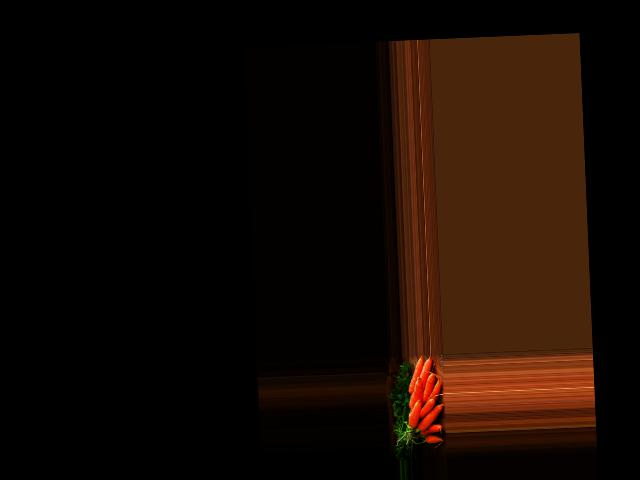carrot: (413, 403, 444, 434)
